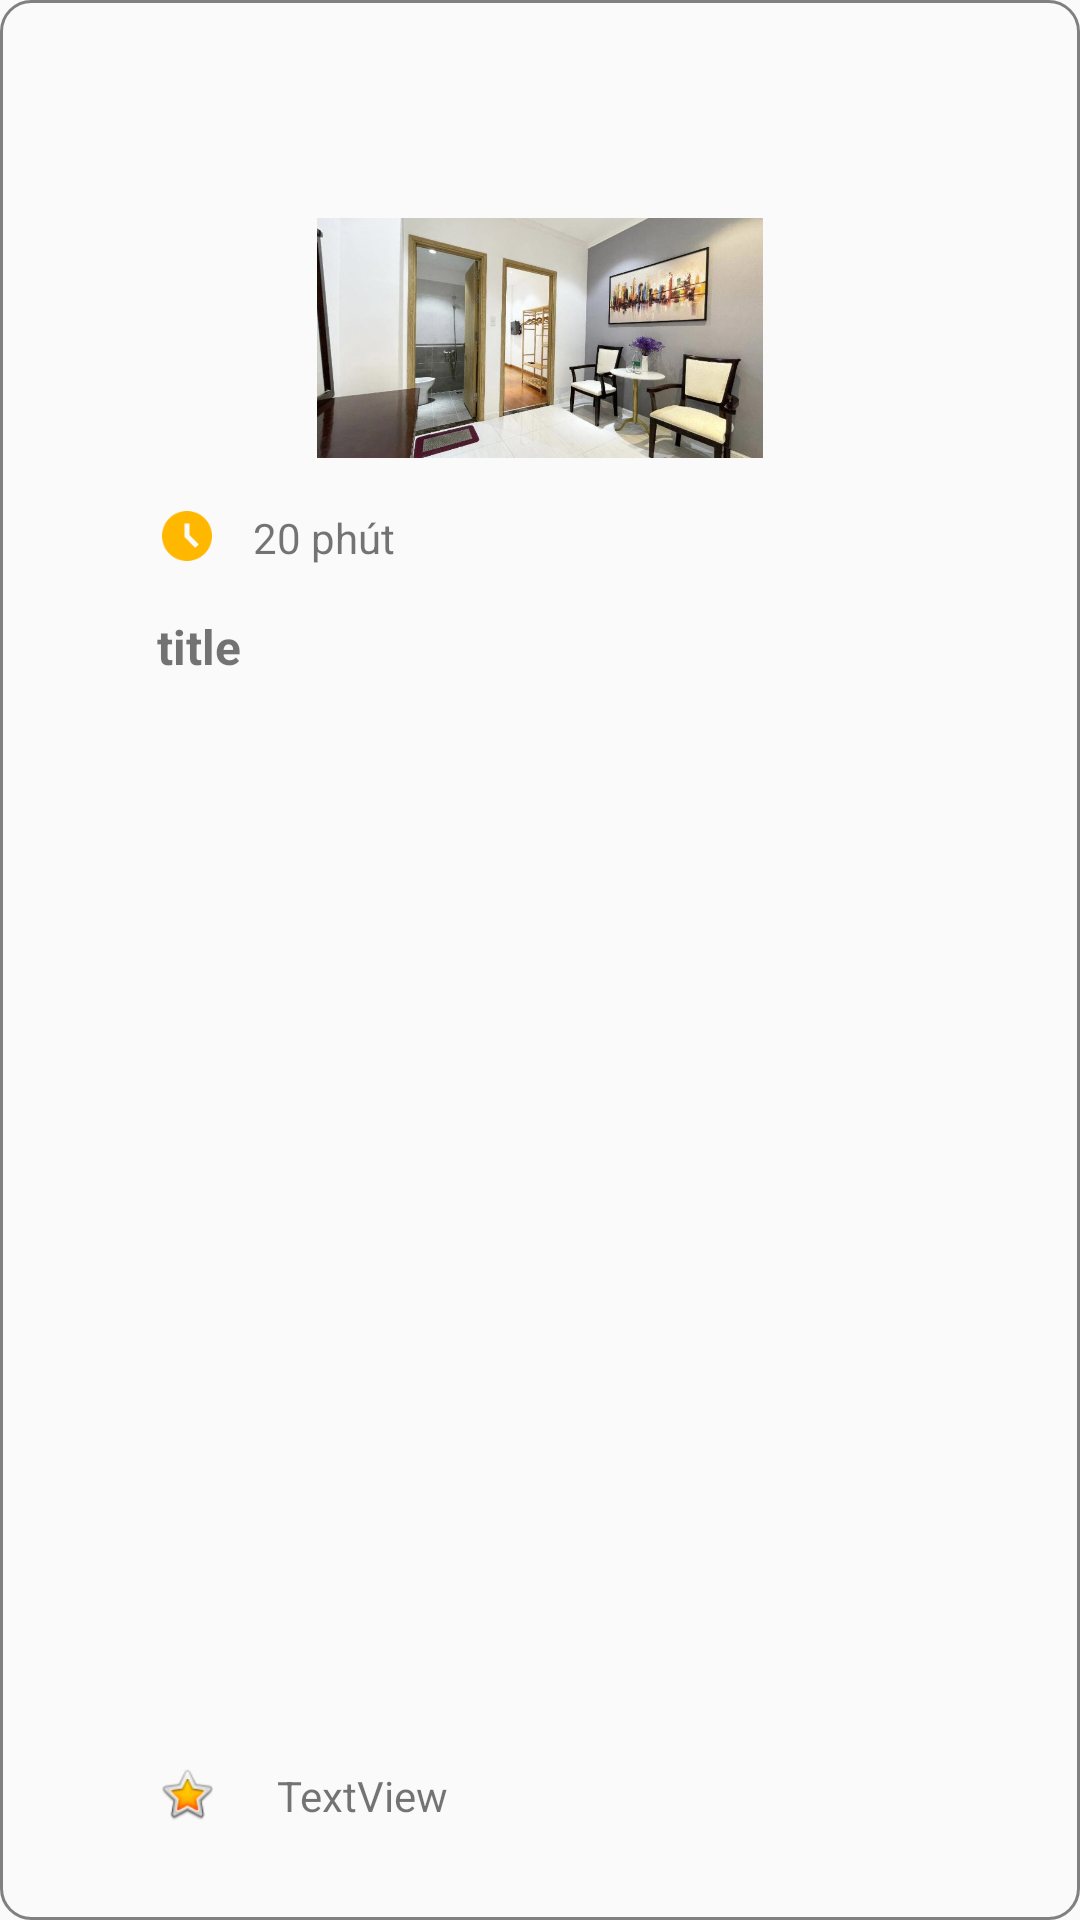

Icons on this 1080px×1920px Android screen, each with its box as (left=x1, top=y1, right=x2, bottom=y2):
access time: (left=162, top=511, right=212, bottom=561)
star on: (left=162, top=1770, right=213, bottom=1819)
